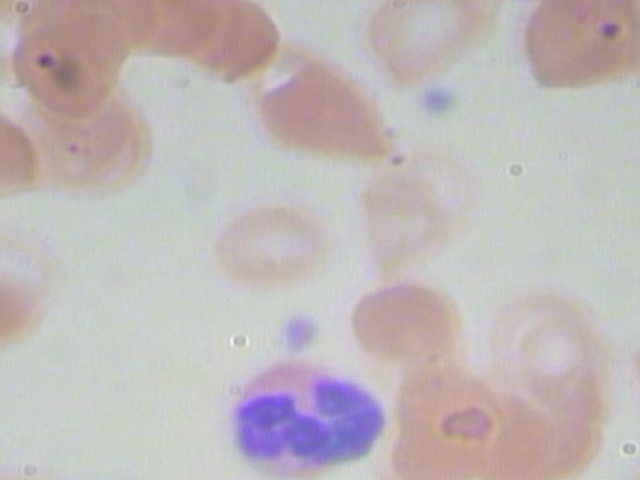Platelets: (408, 79, 465, 130), (270, 310, 326, 361)
RBC: (252, 50, 401, 162), (0, 15, 147, 124), (343, 173, 478, 280), (20, 91, 154, 197), (380, 383, 515, 480), (331, 273, 473, 365), (511, 0, 640, 101), (200, 197, 341, 289), (352, 0, 487, 82), (481, 287, 592, 378), (511, 399, 607, 480), (128, 0, 217, 59), (639, 296, 640, 402)
WBC: (206, 360, 399, 480)
